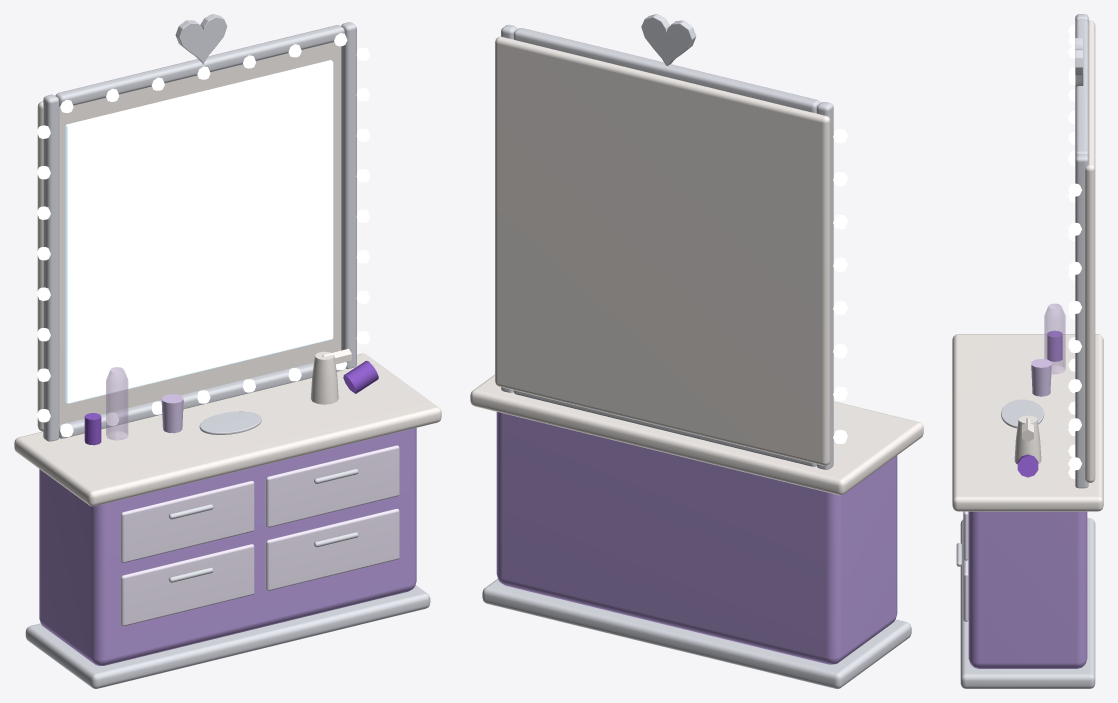
Rendered from mirror_station_lit.glb.
The picture shows the model from 3 angles, left to right: view 1: azimuth 30°, elevation 25°; view 2: azimuth 150°, elevation 25°; view 3: azimuth 270°, elevation 25°; orthographic projection. The views are drawn at different scales.
Parts seen in each view (by area): view 1: mirror_station_lit; view 2: mirror_station_lit; view 3: mirror_station_lit.
Boxes of the visible parts, x1=… form: mirror_station_lit: x1=14, y1=14, x2=441, y2=688; mirror_station_lit: x1=470, y1=14, x2=923, y2=688; mirror_station_lit: x1=952, y1=14, x2=1103, y2=688.
Bounding box in the file's own units: 1.46 × 2.32 × 0.56.
